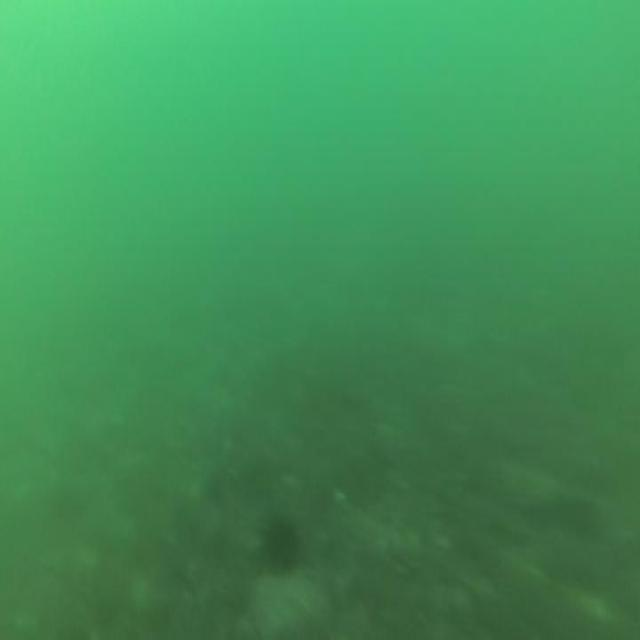echinus: (258, 509, 305, 583)
